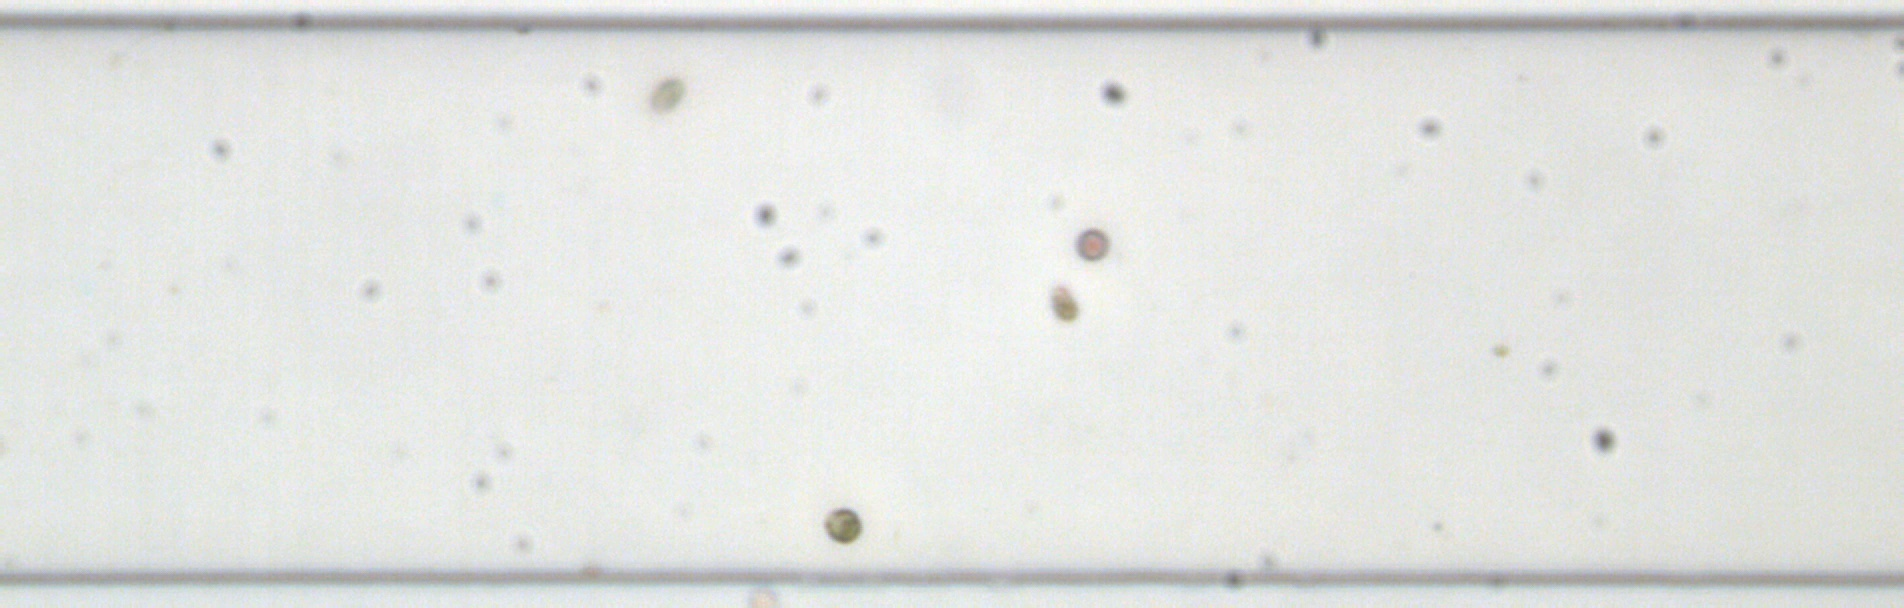Chlorella: (1490, 339, 1507, 358)
Dunaliella salina: (648, 73, 688, 114), (1044, 282, 1081, 324), (822, 507, 863, 544)
Porphyridium: (1073, 226, 1109, 262)
